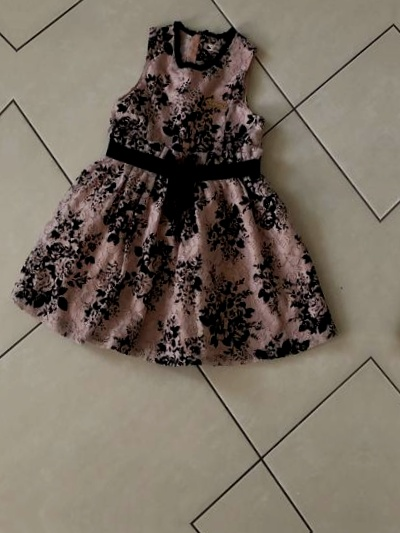Dress: (22, 8, 371, 397), (391, 33, 400, 422)
